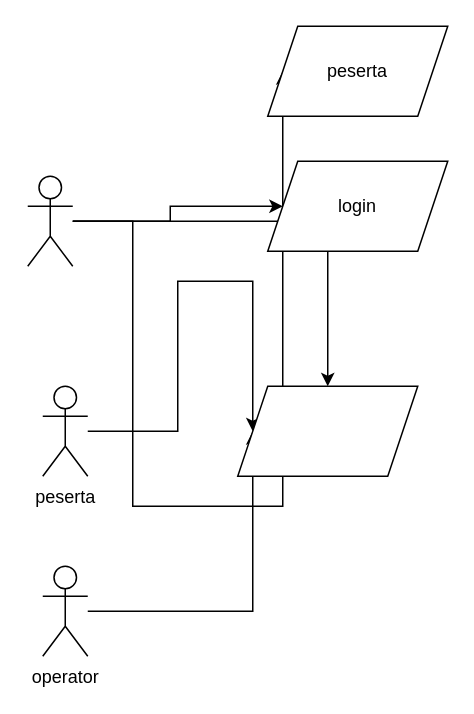
The diagram is 474 pixels wide and 714 high, and some of its shapes have lost their labels. Each missing label, with the centre of its shape:
admin: the point at 49,220
antrian: the point at 327,430
